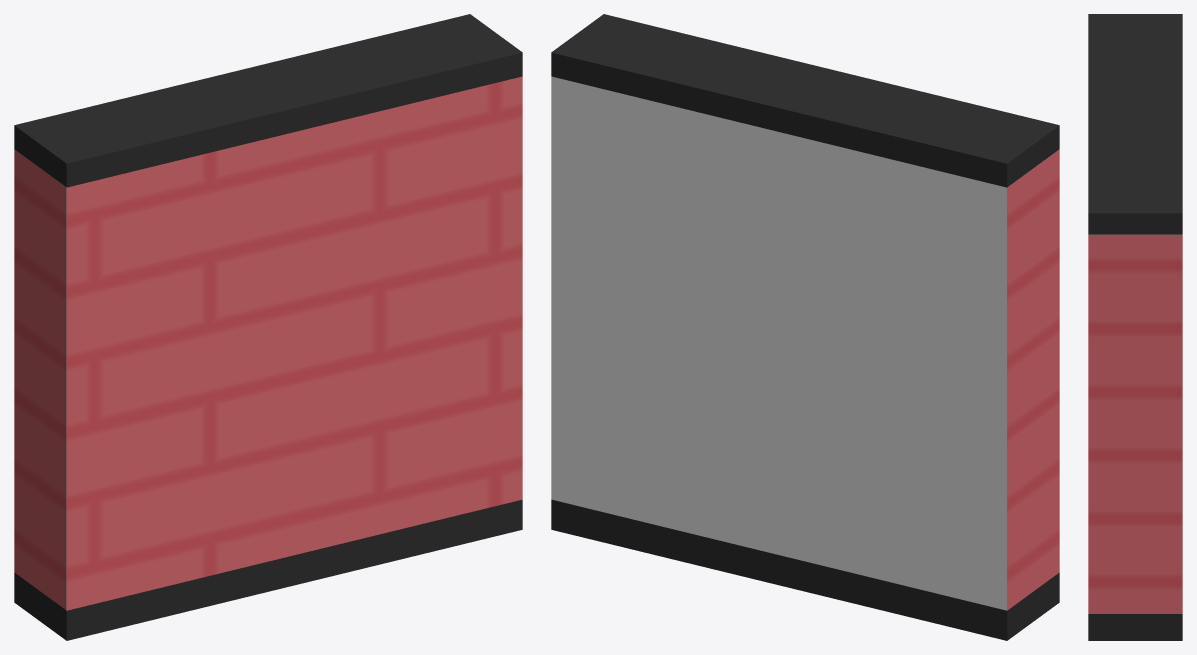
Rendered from GAMEJAMHERO - Walls(Outside Wrap).fbx.
3 views of the same model, side by side, from view 1: azimuth 30°, elevation 25°; view 2: azimuth 150°, elevation 25°; view 3: azimuth 270°, elevation 25° (orthographic). The views are drawn at different scales.
Parts seen in each view (by area): view 1: Wall(Outside Wrap); view 2: Wall(Outside Wrap); view 3: Wall(Outside Wrap).
Part boxes in pixels (bbox=[...]): Wall(Outside Wrap): bbox=[14, 14, 522, 640]; Wall(Outside Wrap): bbox=[551, 14, 1059, 640]; Wall(Outside Wrap): bbox=[1088, 14, 1182, 640].
Size of the model in its own units: 500 by 500 by 100.
Materials: 1 (1 with a texture image).
